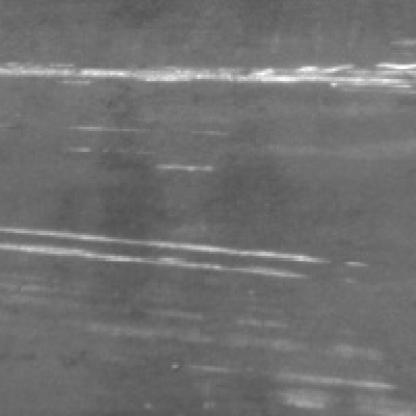scratches: (0, 50, 412, 102), (0, 219, 333, 280)
